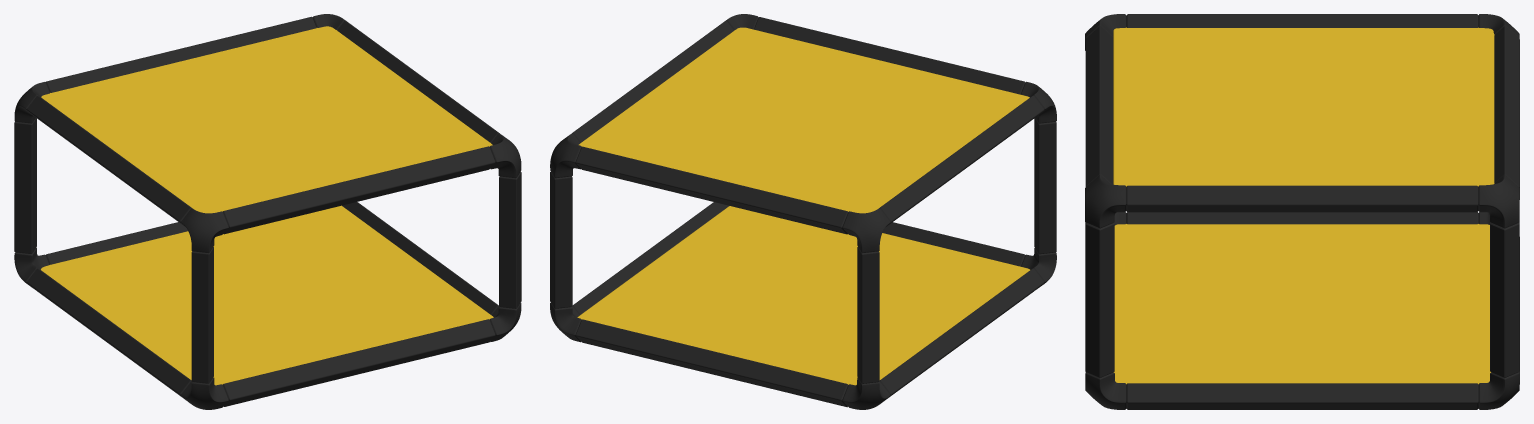
The picture shows the model from 3 angles, left to right: view 1: azimuth 30°, elevation 25°; view 2: azimuth 150°, elevation 25°; view 3: azimuth 270°, elevation 25°; orthographic projection. The views are drawn at different scales.
Parts seen in each view (by area): view 1: 329x329x154; view 2: 329x329x154; view 3: 329x329x154.
Part boxes in pixels (left/top/right/bottom): 329x329x154: left=14, top=14, right=521, bottom=409; 329x329x154: left=550, top=14, right=1056, bottom=409; 329x329x154: left=1085, top=14, right=1519, bottom=409.
Bounding box in the file's own units: 0.4067 × 0.2316 × 0.4063.
